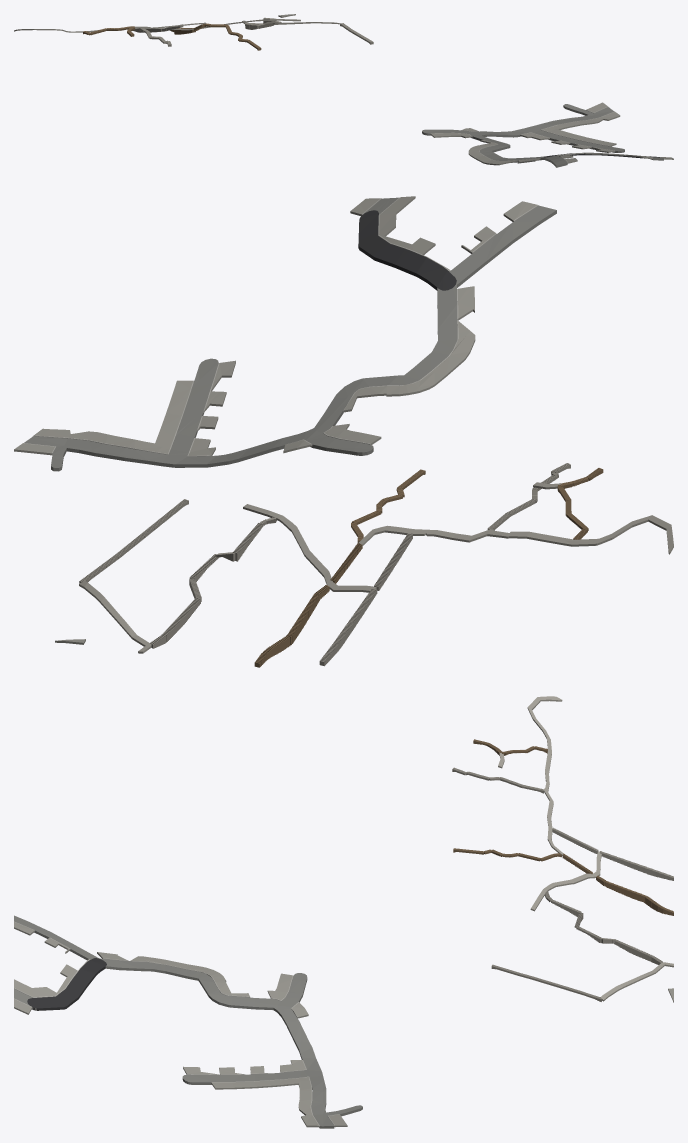
File: 17-109435-59464.8c32bfc2.glb
3 renders of one model, top to bottom at view 1: azimuth 30°, elevation 25°; view 2: azimuth 150°, elevation 25°; view 3: azimuth 270°, elevation 25°, orthographic. The views are drawn at different scales.
Size of the model in its own units: 293 by 76.24 by 292.
